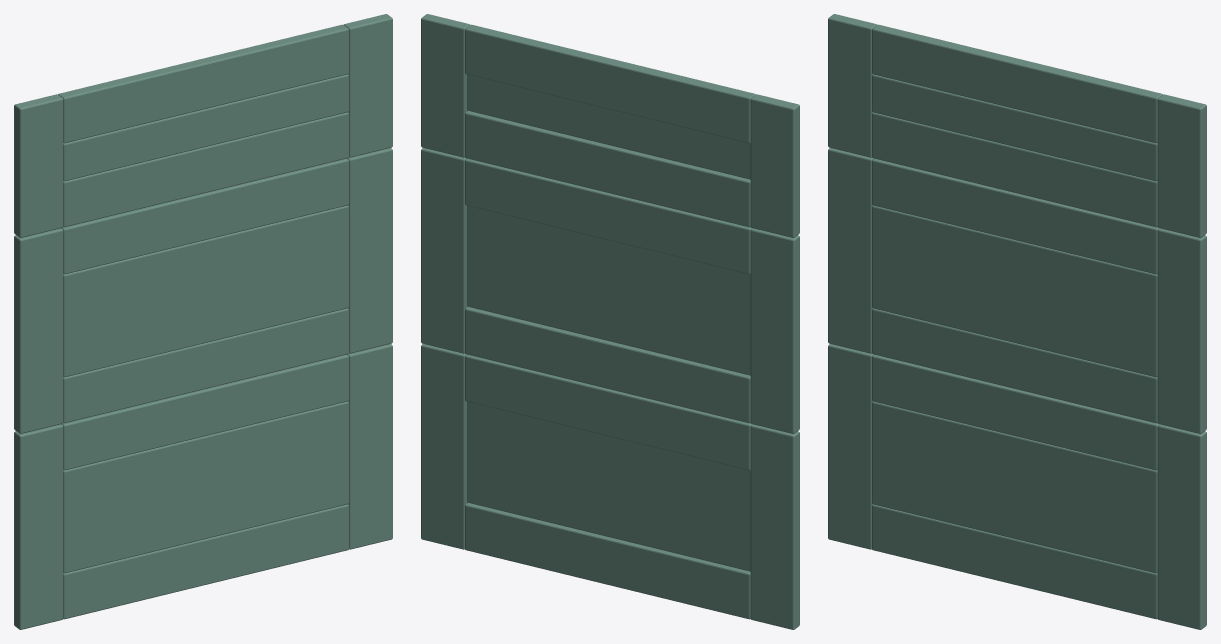
File: DRAWERS_3_600x800.glb
3 renders of one model, left to right at view 1: azimuth 30°, elevation 25°; view 2: azimuth 150°, elevation 25°; view 3: azimuth 330°, elevation 25°, orthographic.
Visible parts, largest first — view 1: front_panel_02_center, front_panel_03_center, front_panel_01_top, front_panel_02_top, front_panel_03_top, front_panel_02_bottom, front_panel_01_bottom, front_panel_03_bottom, front_panel_01_center, front_panel_03_left, front_panel_02_left, front_panel_02_right (+3 smaller); view 2: front_panel_02_center, front_panel_03_center, front_panel_01_top, front_panel_01_bottom, front_panel_02_bottom, front_panel_03_bottom, front_panel_02_top, front_panel_03_top, front_panel_01_center, front_panel_03_left, front_panel_02_left, front_panel_02_right (+3 smaller); view 3: front_panel_02_center, front_panel_03_center, front_panel_01_top, front_panel_02_top, front_panel_03_top, front_panel_02_bottom, front_panel_01_bottom, front_panel_03_bottom, front_panel_01_center, front_panel_03_right, front_panel_02_right, front_panel_02_left (+3 smaller).
Part boxes in pixels (x1,y1,x2,y2): front_panel_02_center: (63, 205, 348, 377); front_panel_03_center: (63, 401, 348, 573); front_panel_01_top: (58, 24, 348, 143); front_panel_02_top: (61, 158, 348, 274); front_panel_03_top: (61, 354, 348, 470); front_panel_02_bottom: (63, 308, 348, 423); front_panel_01_bottom: (63, 112, 348, 227); front_panel_03_bottom: (63, 504, 348, 619); front_panel_01_center: (63, 74, 348, 181); front_panel_03_left: (14, 424, 63, 629); front_panel_02_left: (14, 228, 63, 433); front_panel_02_right: (347, 148, 392, 353); front_panel_02_center: (467, 206, 750, 375); front_panel_03_center: (467, 402, 750, 571); front_panel_01_top: (465, 24, 755, 143); front_panel_01_bottom: (465, 110, 750, 227); front_panel_02_bottom: (465, 306, 750, 423); front_panel_03_bottom: (465, 503, 750, 619); front_panel_02_top: (465, 158, 752, 274); front_panel_03_top: (465, 354, 752, 470); front_panel_01_center: (467, 74, 750, 179); front_panel_03_left: (750, 424, 799, 629); front_panel_02_left: (750, 228, 799, 433); front_panel_02_right: (421, 148, 467, 353); front_panel_02_center: (872, 205, 1157, 377); front_panel_03_center: (872, 401, 1157, 573); front_panel_01_top: (872, 24, 1162, 143); front_panel_02_top: (872, 158, 1159, 274); front_panel_03_top: (872, 354, 1159, 470); front_panel_02_bottom: (872, 308, 1157, 423); front_panel_01_bottom: (872, 112, 1157, 227); front_panel_03_bottom: (872, 504, 1157, 619); front_panel_01_center: (872, 74, 1157, 181); front_panel_03_right: (1157, 424, 1206, 629); front_panel_02_right: (1157, 228, 1206, 433); front_panel_02_left: (828, 148, 873, 353).
Bounding box in the file's own units: 0.596 × 0.796 × 0.018.
